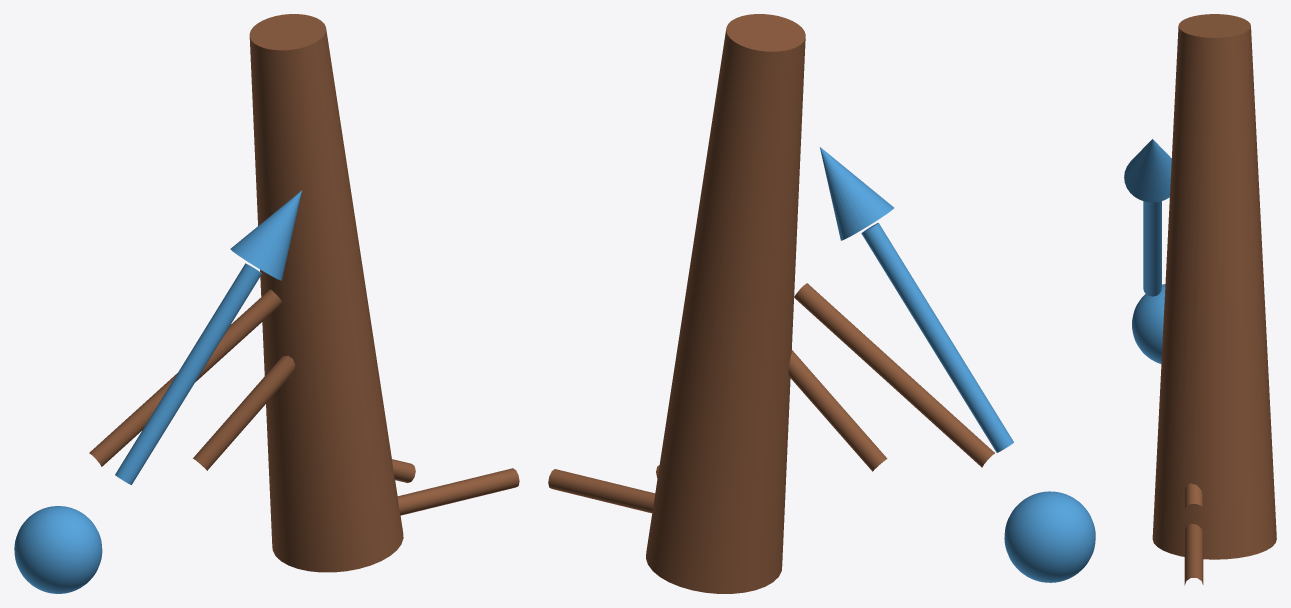
The model's file is bio-p1-root.glb.
The picture shows the model from 3 angles, left to right: view 1: azimuth 30°, elevation 25°; view 2: azimuth 150°, elevation 25°; view 3: azimuth 270°, elevation 25°; orthographic projection. The views are drawn at different scales.
Parts seen in each view (by area): view 1: main-root-anchor, water-mineral-uptake-drop, uptake-arrow-to-plant-shaft, branch-root-hair-0, uptake-arrow-to-plant-head, branch-root-hair-1, branch-root-hair-4; view 2: main-root-anchor, water-mineral-uptake-drop, uptake-arrow-to-plant-shaft, branch-root-hair-0, uptake-arrow-to-plant-head, branch-root-hair-1, branch-root-hair-4; view 3: main-root-anchor, uptake-arrow-to-plant-head, water-mineral-uptake-drop, uptake-arrow-to-plant-shaft, branch-root-hair-4, branch-root-hair-3.
Boxes of the visible parts, x1,y1,x2,y2 form: main-root-anchor: [249, 14, 403, 572]; water-mineral-uptake-drop: [14, 506, 102, 593]; uptake-arrow-to-plant-shaft: [115, 263, 261, 484]; branch-root-hair-0: [89, 289, 282, 466]; uptake-arrow-to-plant-head: [230, 190, 301, 280]; branch-root-hair-1: [193, 355, 295, 470]; branch-root-hair-4: [397, 468, 519, 515]; main-root-anchor: [646, 14, 805, 593]; water-mineral-uptake-drop: [1004, 491, 1095, 582]; uptake-arrow-to-plant-shaft: [861, 223, 1013, 452]; branch-root-hair-0: [794, 283, 994, 467]; uptake-arrow-to-plant-head: [820, 147, 893, 240]; branch-root-hair-1: [788, 350, 887, 471]; branch-root-hair-4: [548, 469, 655, 513]; main-root-anchor: [1152, 14, 1276, 559]; uptake-arrow-to-plant-head: [1124, 139, 1171, 202]; water-mineral-uptake-drop: [1132, 284, 1165, 363]; uptake-arrow-to-plant-shaft: [1143, 201, 1161, 296]; branch-root-hair-4: [1184, 523, 1203, 585]; branch-root-hair-3: [1184, 483, 1203, 508].
Size of what is drawn, in the model's own units: 1.06 by 1.06 by 0.295.
